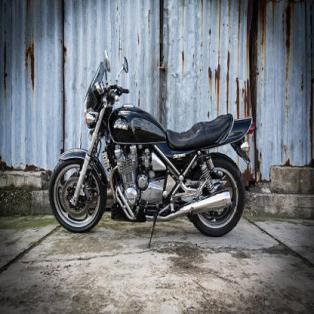Motocicleta: (47, 47, 251, 244)
